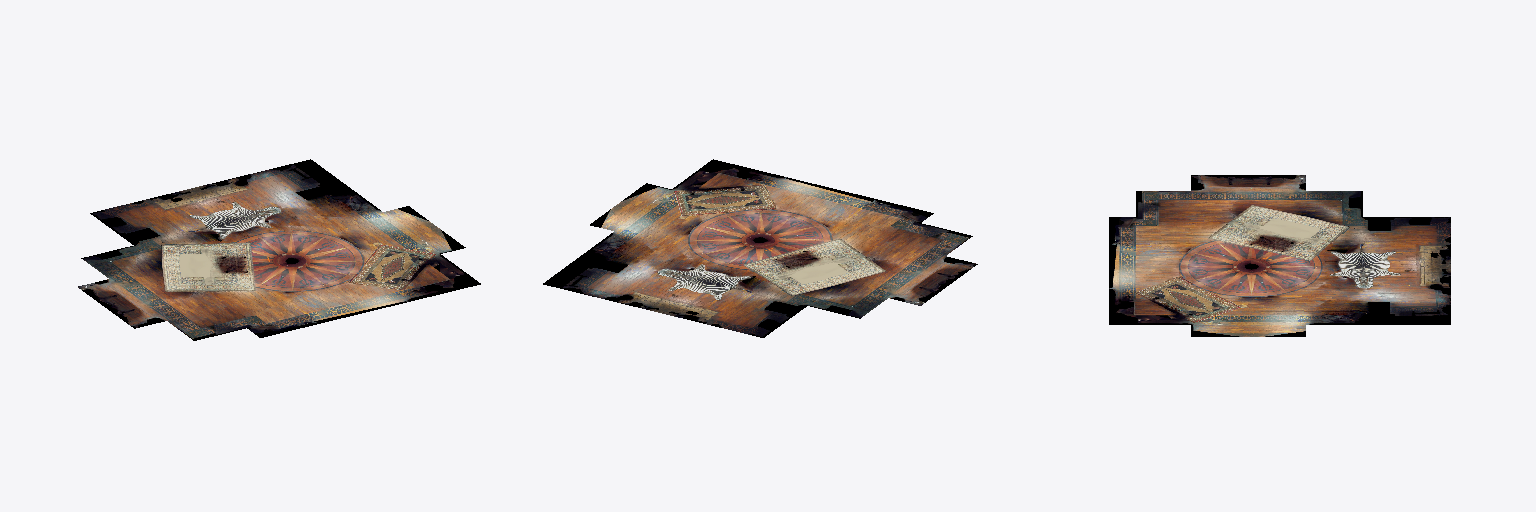
The picture shows the model from 3 angles: view 1: azimuth 30°, elevation 25°; view 2: azimuth 150°, elevation 25°; view 3: azimuth 270°, elevation 25°; orthographic projection.
Visible parts, largest first — view 1: LivingRoom_GEO_GRP_LivingRoom_Wall_Floor; view 2: LivingRoom_GEO_GRP_LivingRoom_Wall_Floor; view 3: LivingRoom_GEO_GRP_LivingRoom_Wall_Floor.
Boxes of the visible parts, box(x1,y1,x2,y2) form: LivingRoom_GEO_GRP_LivingRoom_Wall_Floor: box(78, 159, 480, 340); LivingRoom_GEO_GRP_LivingRoom_Wall_Floor: box(543, 159, 977, 337); LivingRoom_GEO_GRP_LivingRoom_Wall_Floor: box(1109, 175, 1450, 336).
Size of the model in its own units: 10.39 by 0 by 9.27.
1 materials, 1 textured.